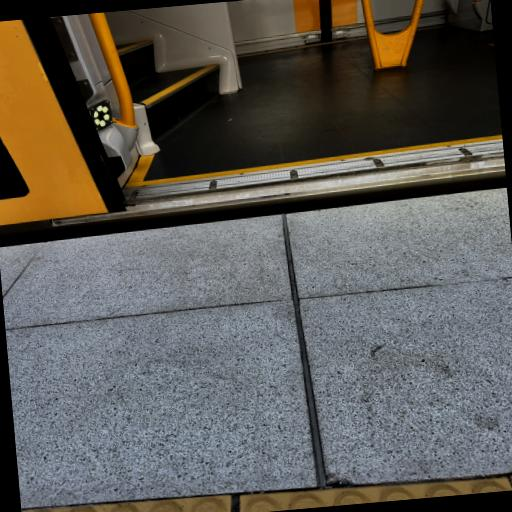gap: (0, 177, 507, 247)
